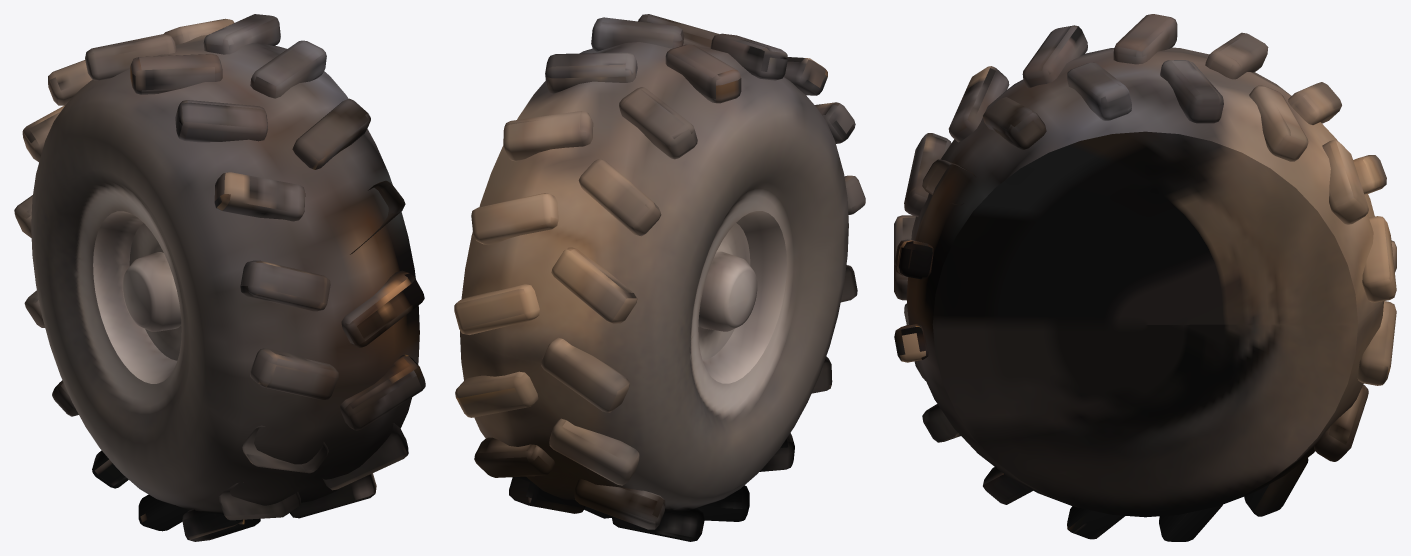
The picture shows the model from 3 angles, left to right: view 1: azimuth 30°, elevation 25°; view 2: azimuth 150°, elevation 25°; view 3: azimuth 270°, elevation 25°; orthographic projection.
Parts seen in each view (by area): view 1: wheel_RR; view 2: wheel_RR; view 3: wheel_RR.
Part boxes in pixels (box(x1,y1,x2,y2)): wheel_RR: box(14, 14, 425, 541); wheel_RR: box(454, 14, 865, 541); wheel_RR: box(894, 14, 1396, 541).
Bounding box in the file's own units: 0.209 × 0.472 × 0.472.
1 material, 1 textured.
